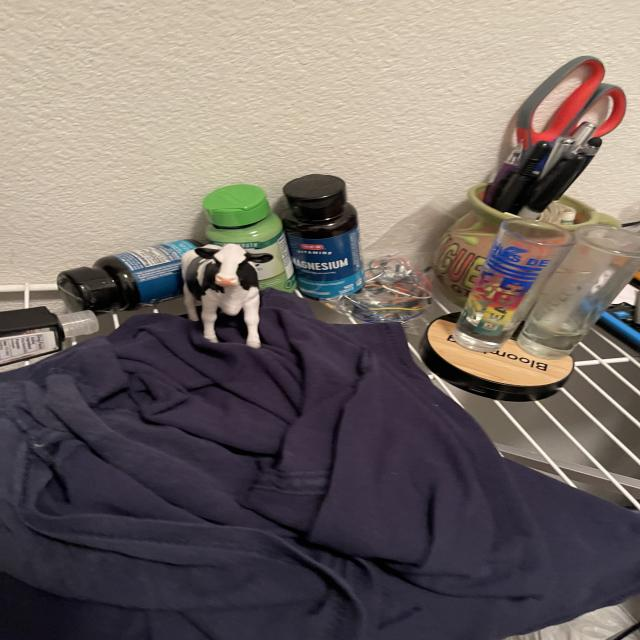cow: (181, 243, 261, 350)
